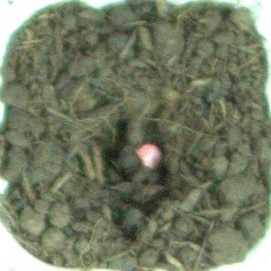chilli seed: (135, 141, 167, 169)
